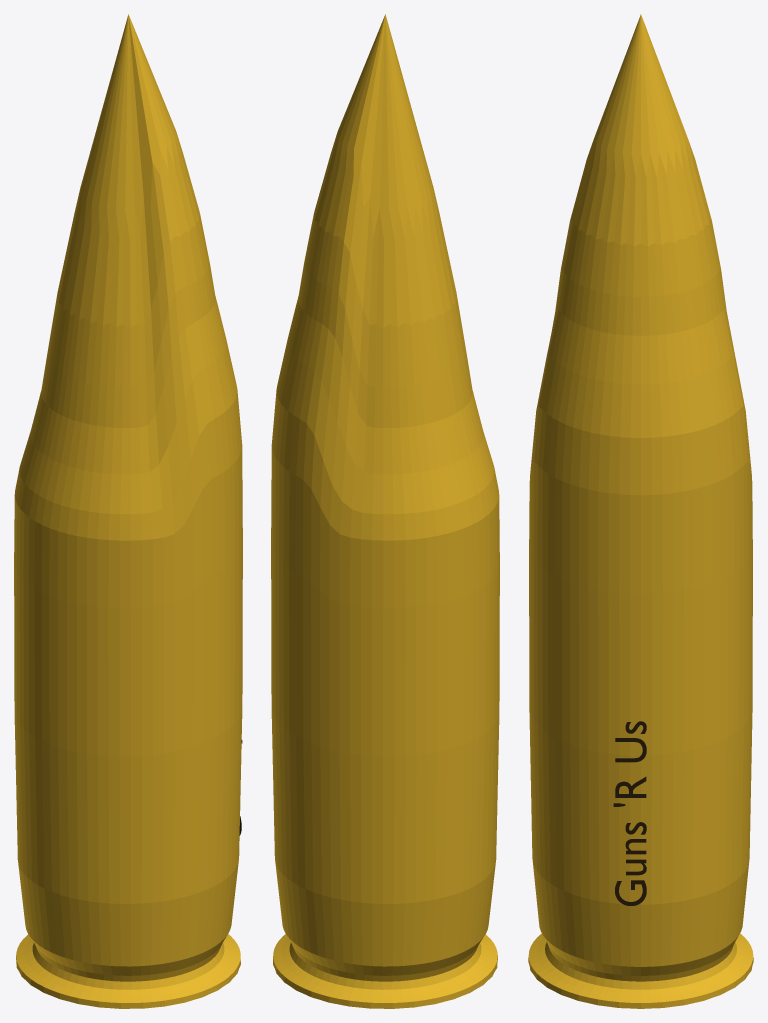
The model's file is goldenBullet.fbx.
The picture shows the model from 3 angles, left to right: view 1: azimuth 30°, elevation 25°; view 2: azimuth 150°, elevation 25°; view 3: azimuth 270°, elevation 25°; orthographic projection.
Parts seen in each view (by area): view 1: Cylinder; view 2: Cylinder; view 3: Cylinder, Text.
Part boxes in pixels (left/top/right/bottom): Cylinder: left=14, top=14, right=242, bottom=1008; Cylinder: left=271, top=14, right=499, bottom=1008; Cylinder: left=528, top=14, right=753, bottom=1008; Text: left=613, top=721, right=646, bottom=905.
Size of the model in its own units: 197 by 900 by 193.
